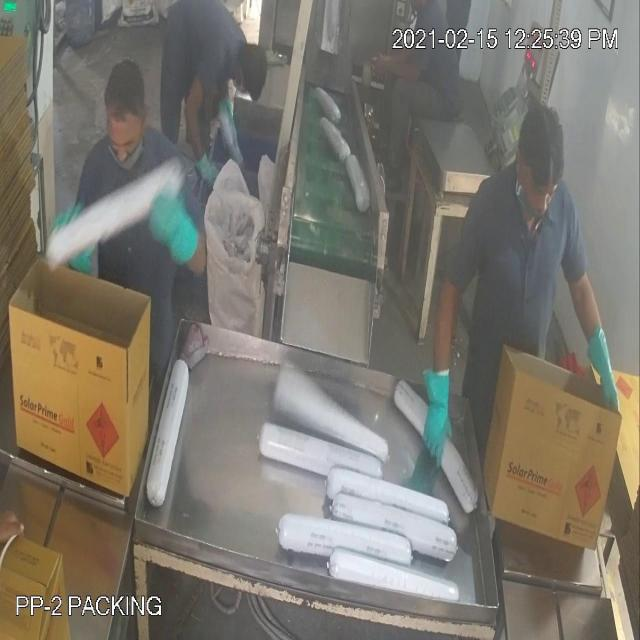Gloves: (50, 106, 600, 414)
